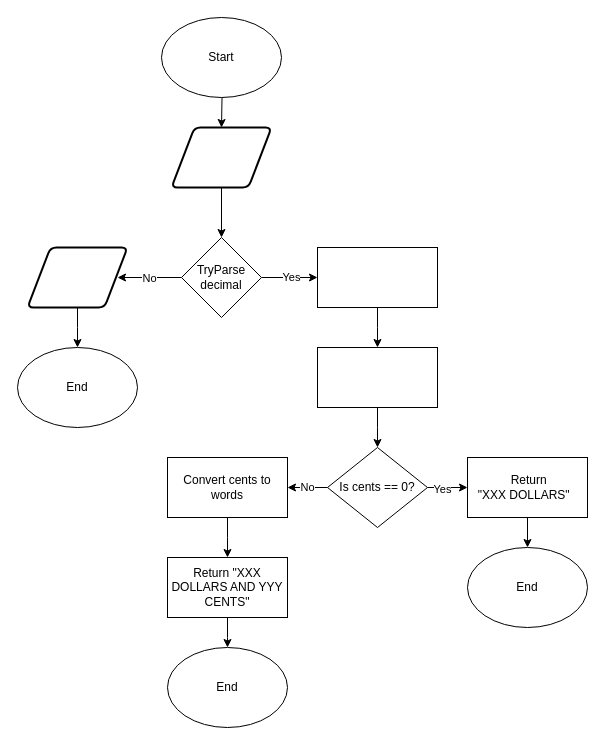
The diagram is 605 pixels wide and 745 high, and some of its shapes have lost their labels. Each missing label, with the centre of its shape:
Convert dollars to words: point (377, 377)
Input number: point (221, 157)
Show Error: point (77, 277)
Split into dollars & cents: point (377, 277)
